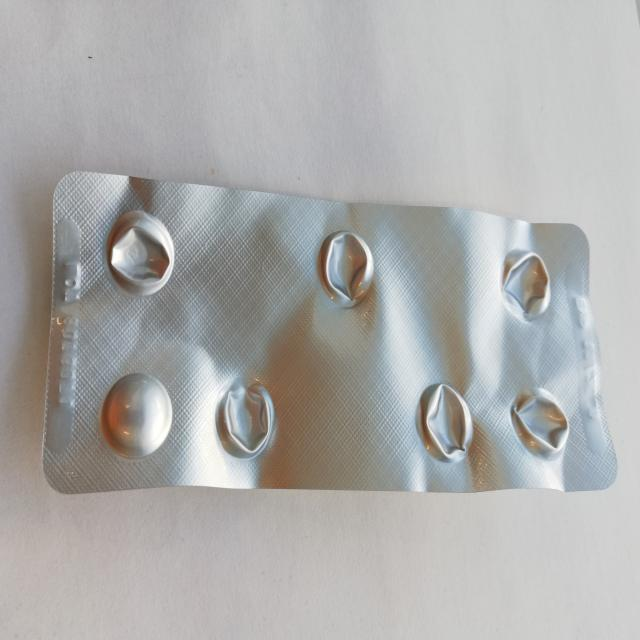Empty: (101, 200, 179, 298), (416, 374, 482, 472), (214, 372, 282, 463), (315, 220, 378, 313), (507, 380, 569, 464), (497, 239, 555, 326)
Pill: (99, 366, 178, 464)
